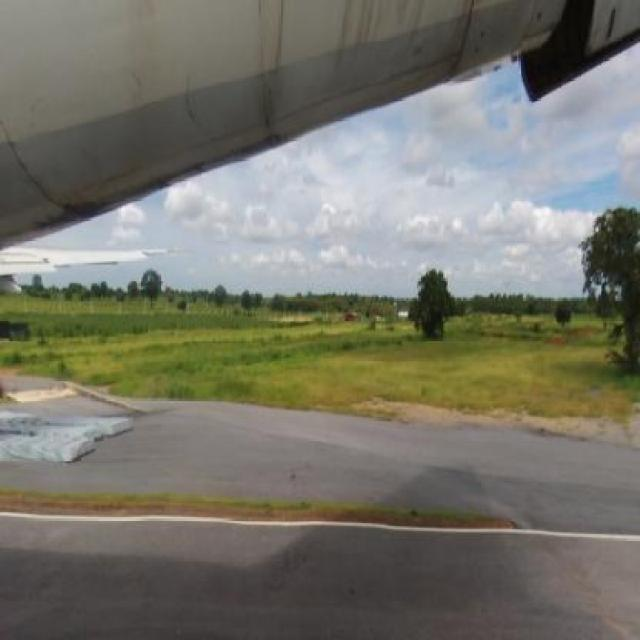Rust: (330, 0, 476, 94), (242, 1, 300, 165), (26, 170, 172, 235), (112, 47, 158, 121), (175, 52, 210, 131)
